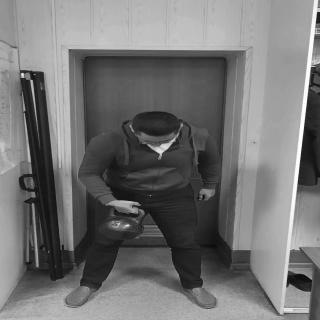kettlebell: (98, 207, 148, 241)
